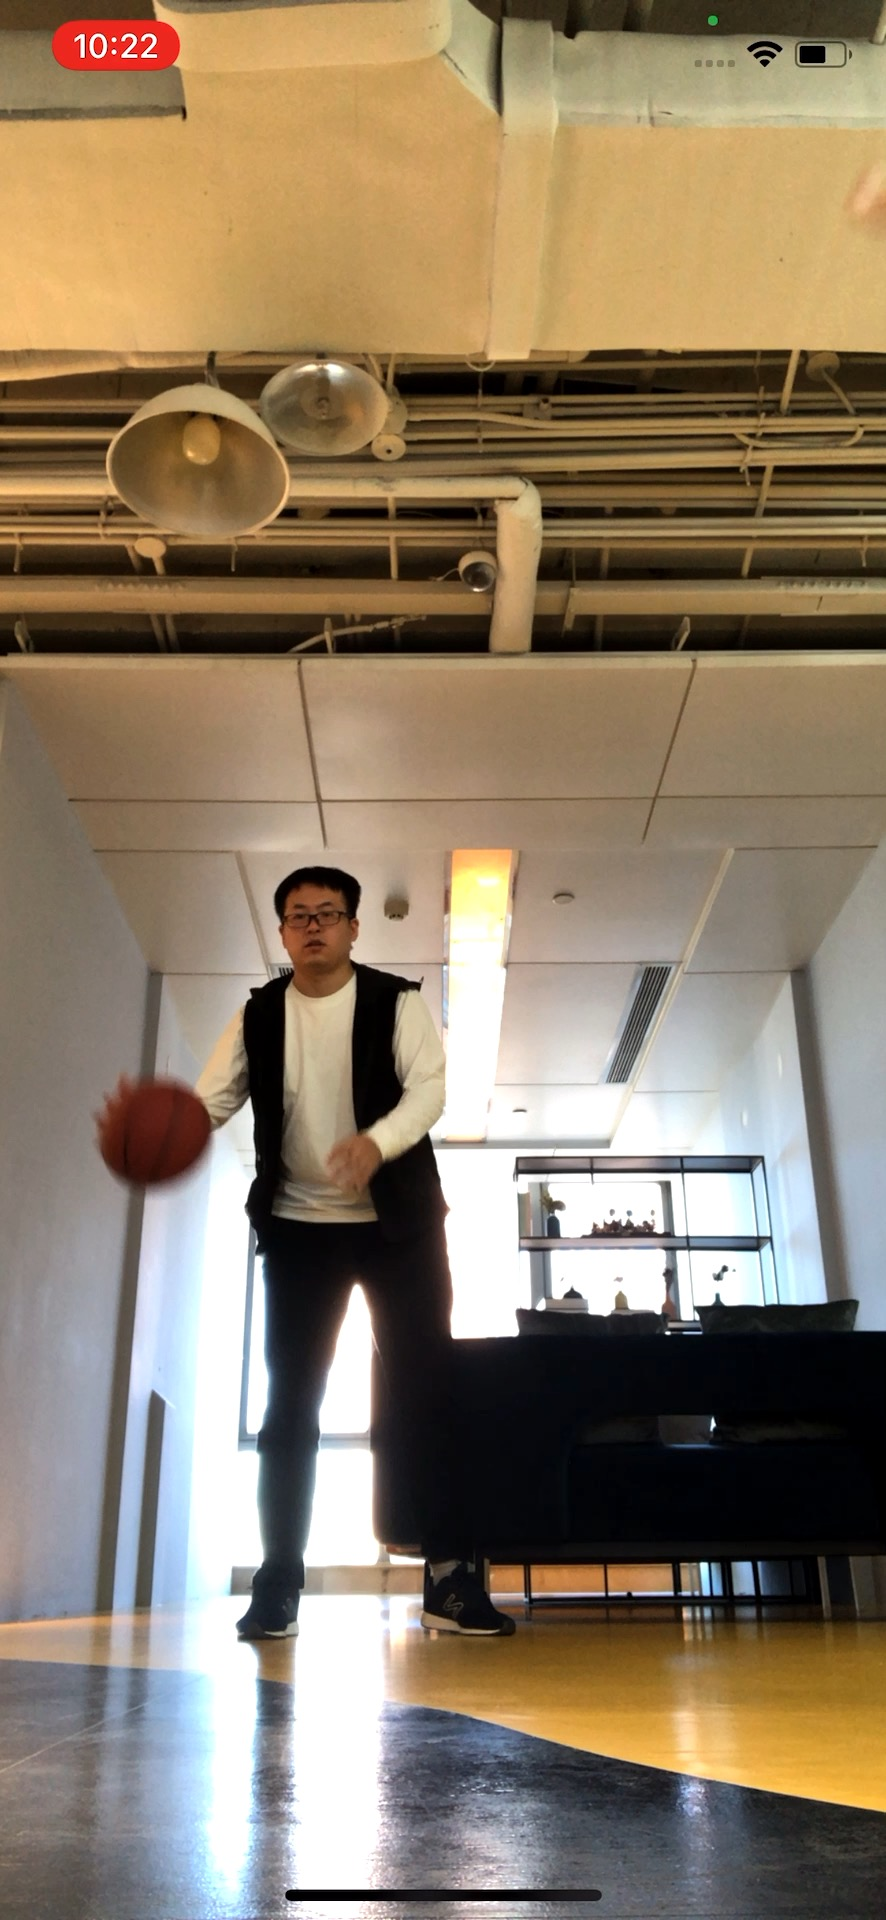ball: (95, 1078, 210, 1194)
